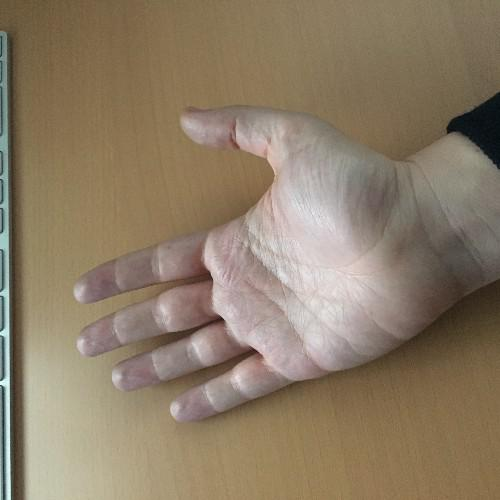paper: (64, 93, 436, 443)
